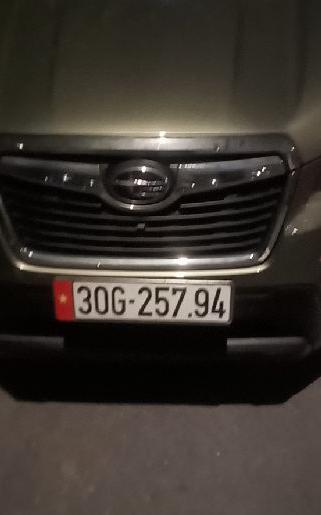Plate-iWeP: (74, 283, 233, 321)
